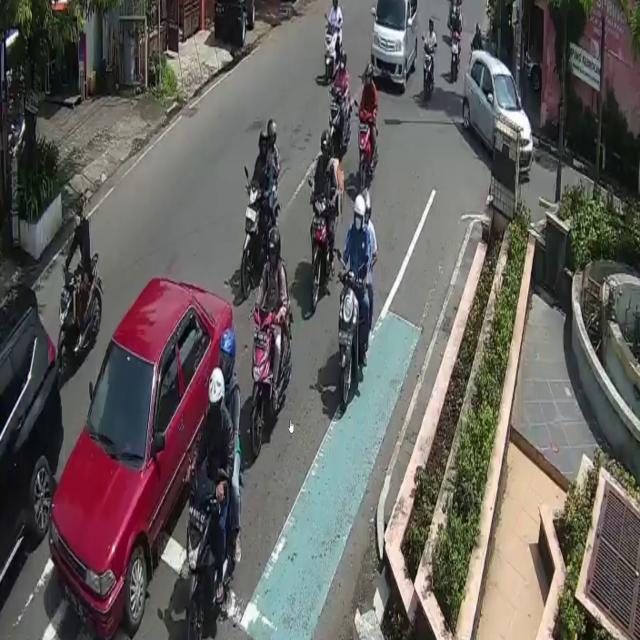bus: (186, 476, 232, 640), (250, 298, 292, 462), (59, 259, 101, 372), (242, 178, 279, 299), (340, 265, 360, 411), (309, 187, 331, 310), (355, 108, 376, 192), (326, 79, 344, 157), (324, 18, 346, 81), (422, 44, 434, 106)
motorcycle: (48, 277, 233, 638), (462, 48, 533, 186), (370, 1, 420, 94)
